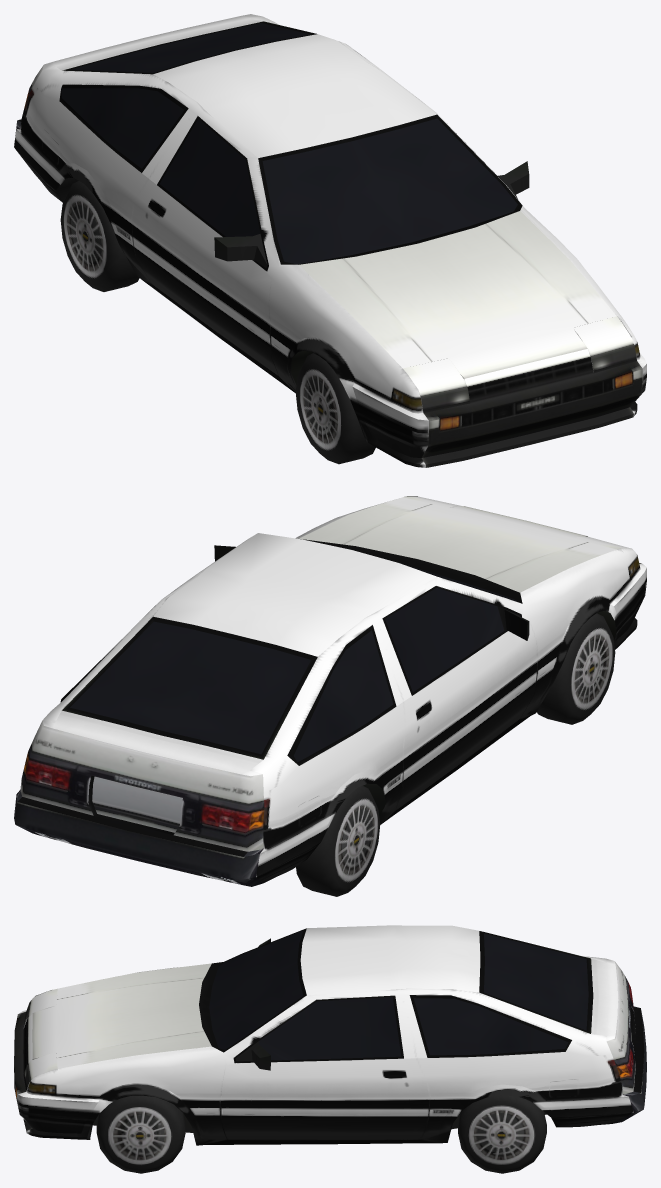
The model's file is npc-trueno.fbx.
The picture shows the model from 3 angles, top to bottom: view 1: azimuth 30°, elevation 25°; view 2: azimuth 150°, elevation 25°; view 3: azimuth 270°, elevation 25°; orthographic projection. The views are drawn at different scales.
Visible parts, largest first — view 1: Circle.004, Plane, Plane.002; view 2: Circle.004, Plane.002, Plane; view 3: Circle.004, Plane.003, Plane.001.
Boxes of the visible parts, x1,y1,x2,y2 form: Circle.004: (14, 14, 646, 467); Plane: (295, 353, 375, 464); Plane.002: (60, 181, 139, 291); Circle.004: (14, 496, 646, 886); Plane.002: (296, 786, 380, 896); Plane: (537, 613, 615, 724); Circle.004: (14, 925, 646, 1145); Plane.003: (458, 1095, 546, 1173); Plane.001: (96, 1095, 185, 1173).
Bounding box in the file's own units: 424 × 289 × 965.
1 material, 1 textured.
